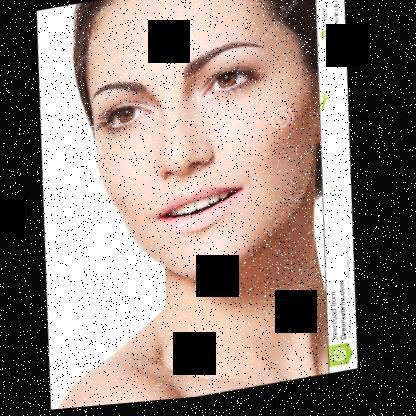Female: (70, 0, 334, 302)
